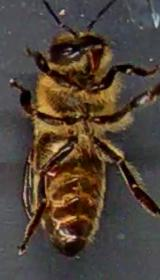varroa_mite: (40, 148, 68, 183)
